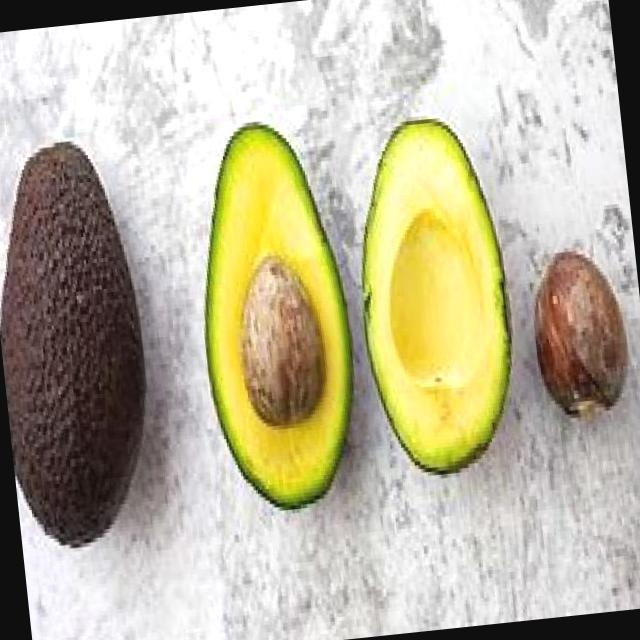avocado: (172, 113, 370, 513), (0, 128, 163, 562), (340, 109, 525, 483)
